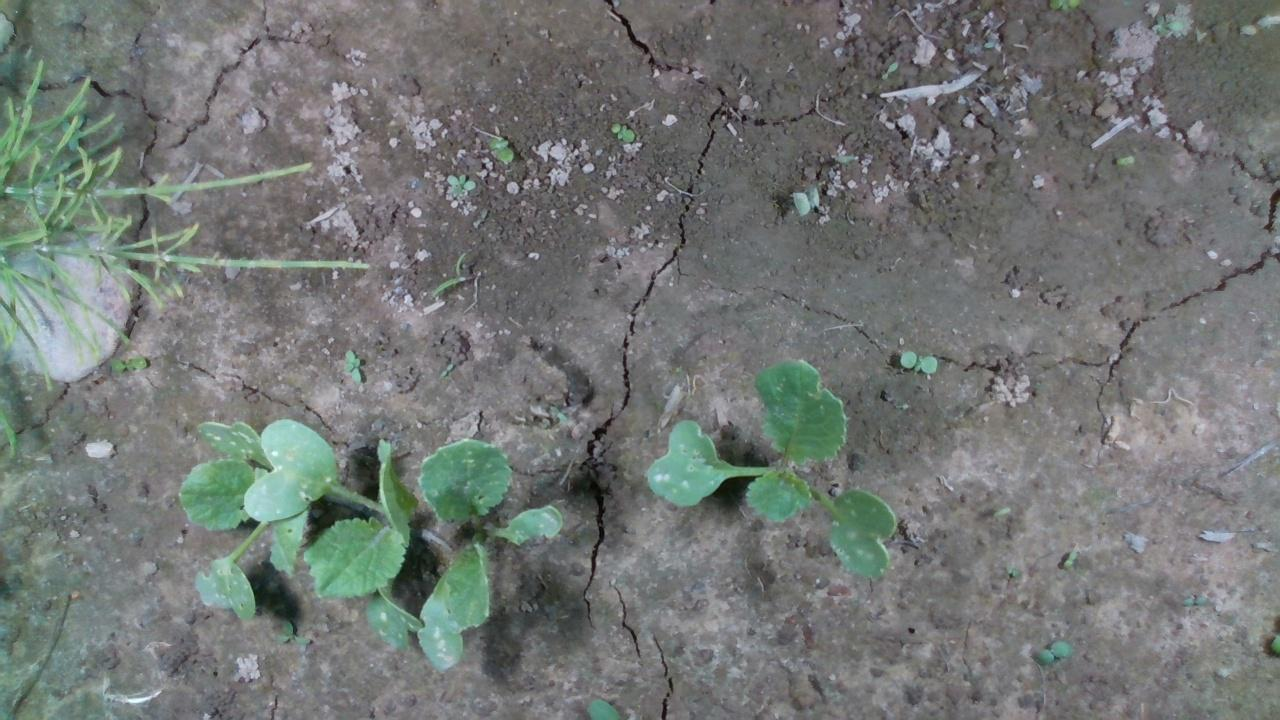weed: (1028, 639, 1069, 667), (897, 349, 938, 375)
